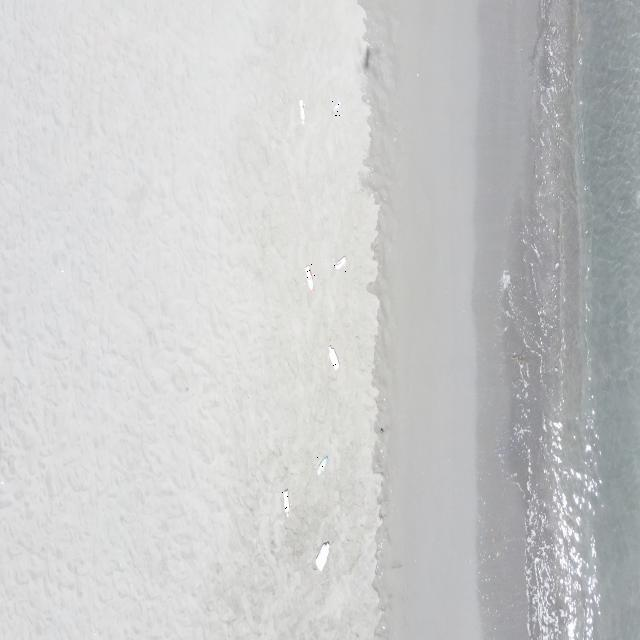plastic-bottle: (315, 540, 330, 572), (328, 344, 340, 372), (304, 264, 315, 294), (282, 489, 291, 519), (316, 456, 328, 478), (333, 255, 347, 273), (298, 98, 306, 126), (331, 98, 342, 116)
